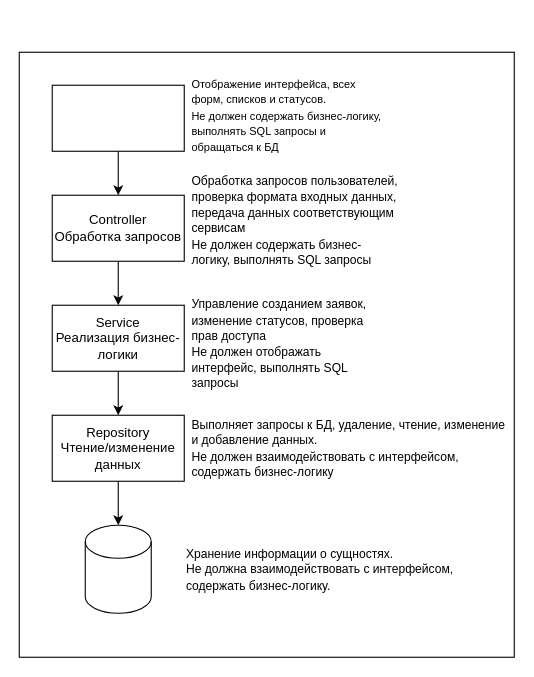
Image size: 534x677. Some labels were removed from this diagram. Each missing label, with the centre of its shape:
"Database Хранение данных" goes at [117,568].
"Presentation Пользовательский интерфейс" goes at [117,117].
